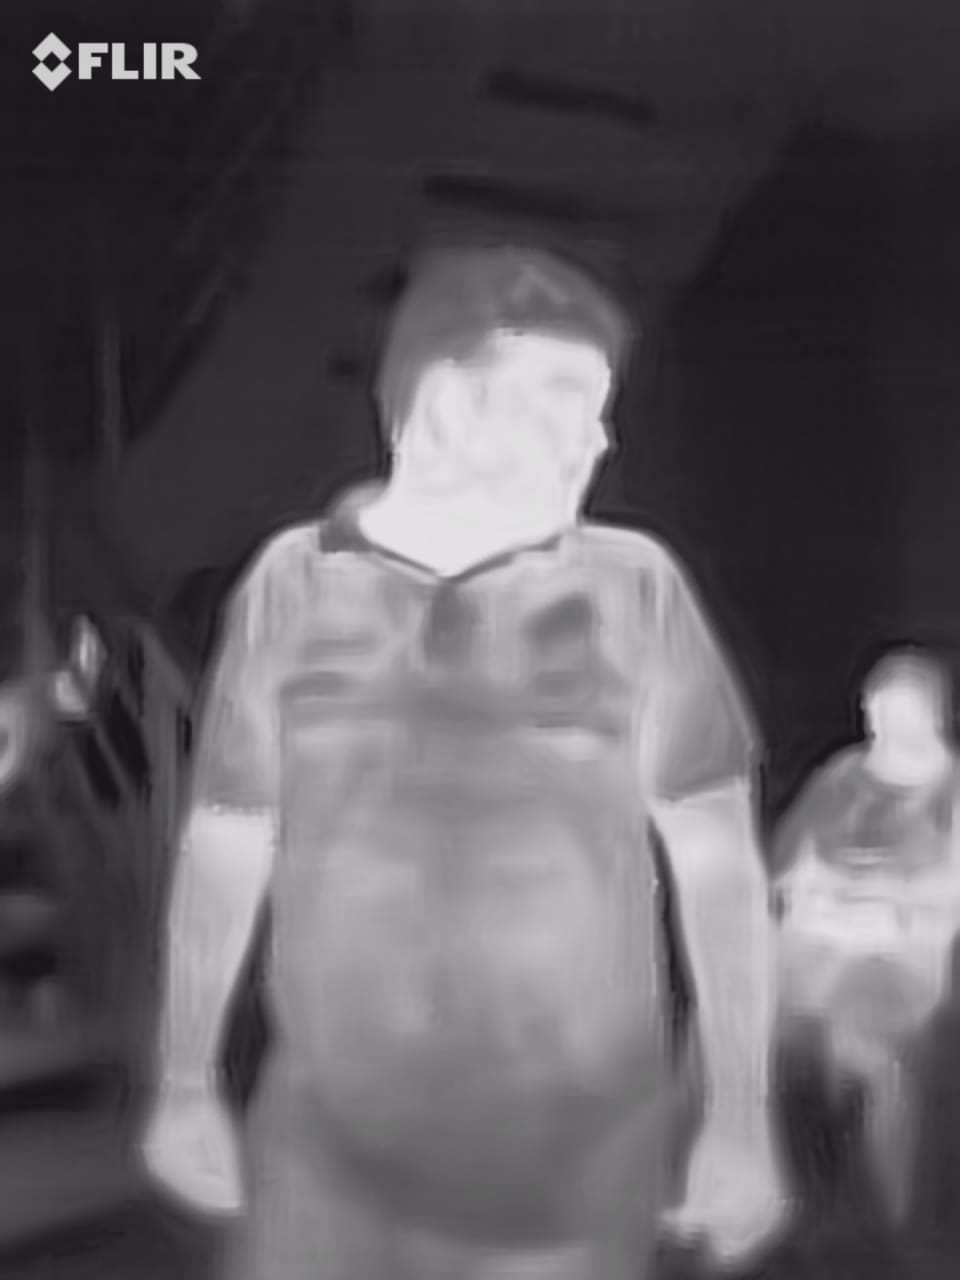head: (357, 240, 652, 569)
